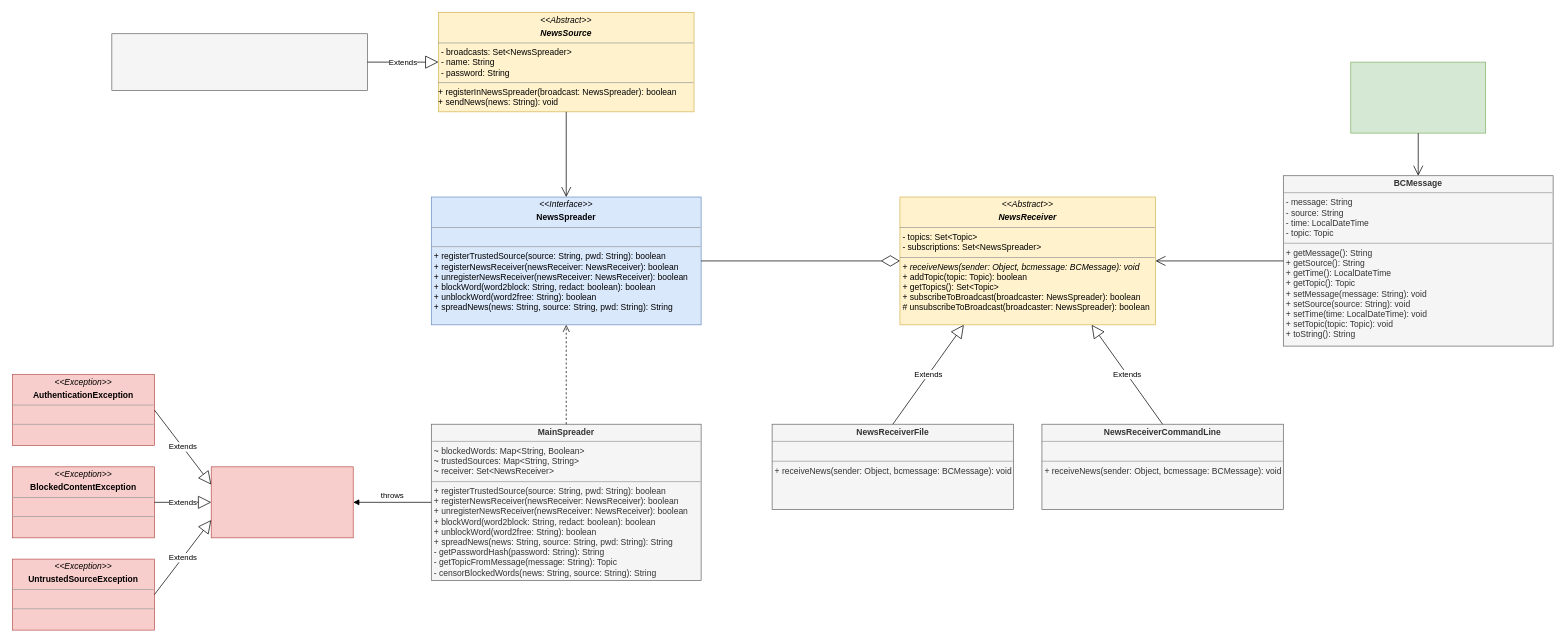
This 1566x643 diagram has some shape labels left out. Each missing label, with the box of its shape:
<<Enumeration>> Topic Sport Politics Other: (1350, 61, 1486, 133)
<<Exception>> NewsSpreaderException: (211, 466, 353, 538)
RandomNewsSource + generateMessage(): String: (111, 33, 367, 91)
